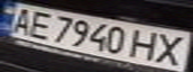0: (106, 24, 130, 56)
4: (87, 20, 109, 52)
7: (48, 12, 75, 44)
9: (66, 17, 90, 48)
A: (3, 5, 39, 35)
E: (24, 9, 57, 39)
H: (127, 28, 163, 62)
X: (151, 32, 190, 66)
